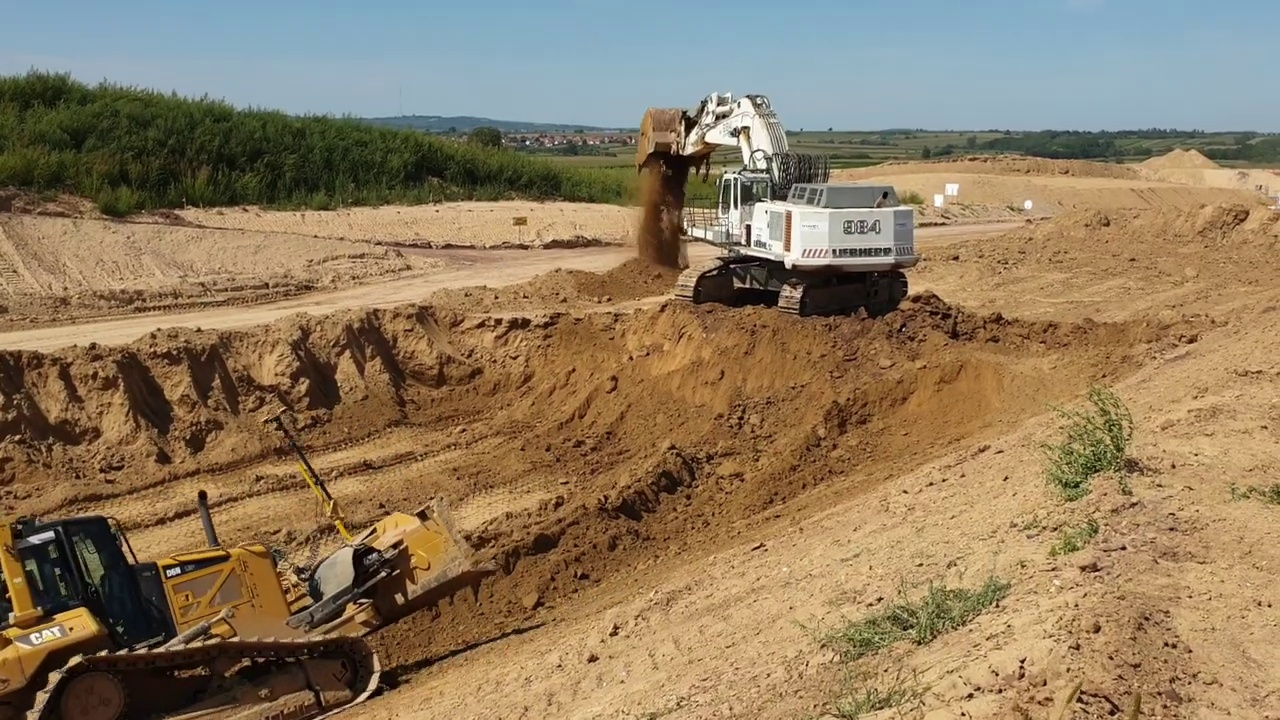bulldozer: (2, 407, 477, 720)
excavator: (633, 86, 922, 326)
